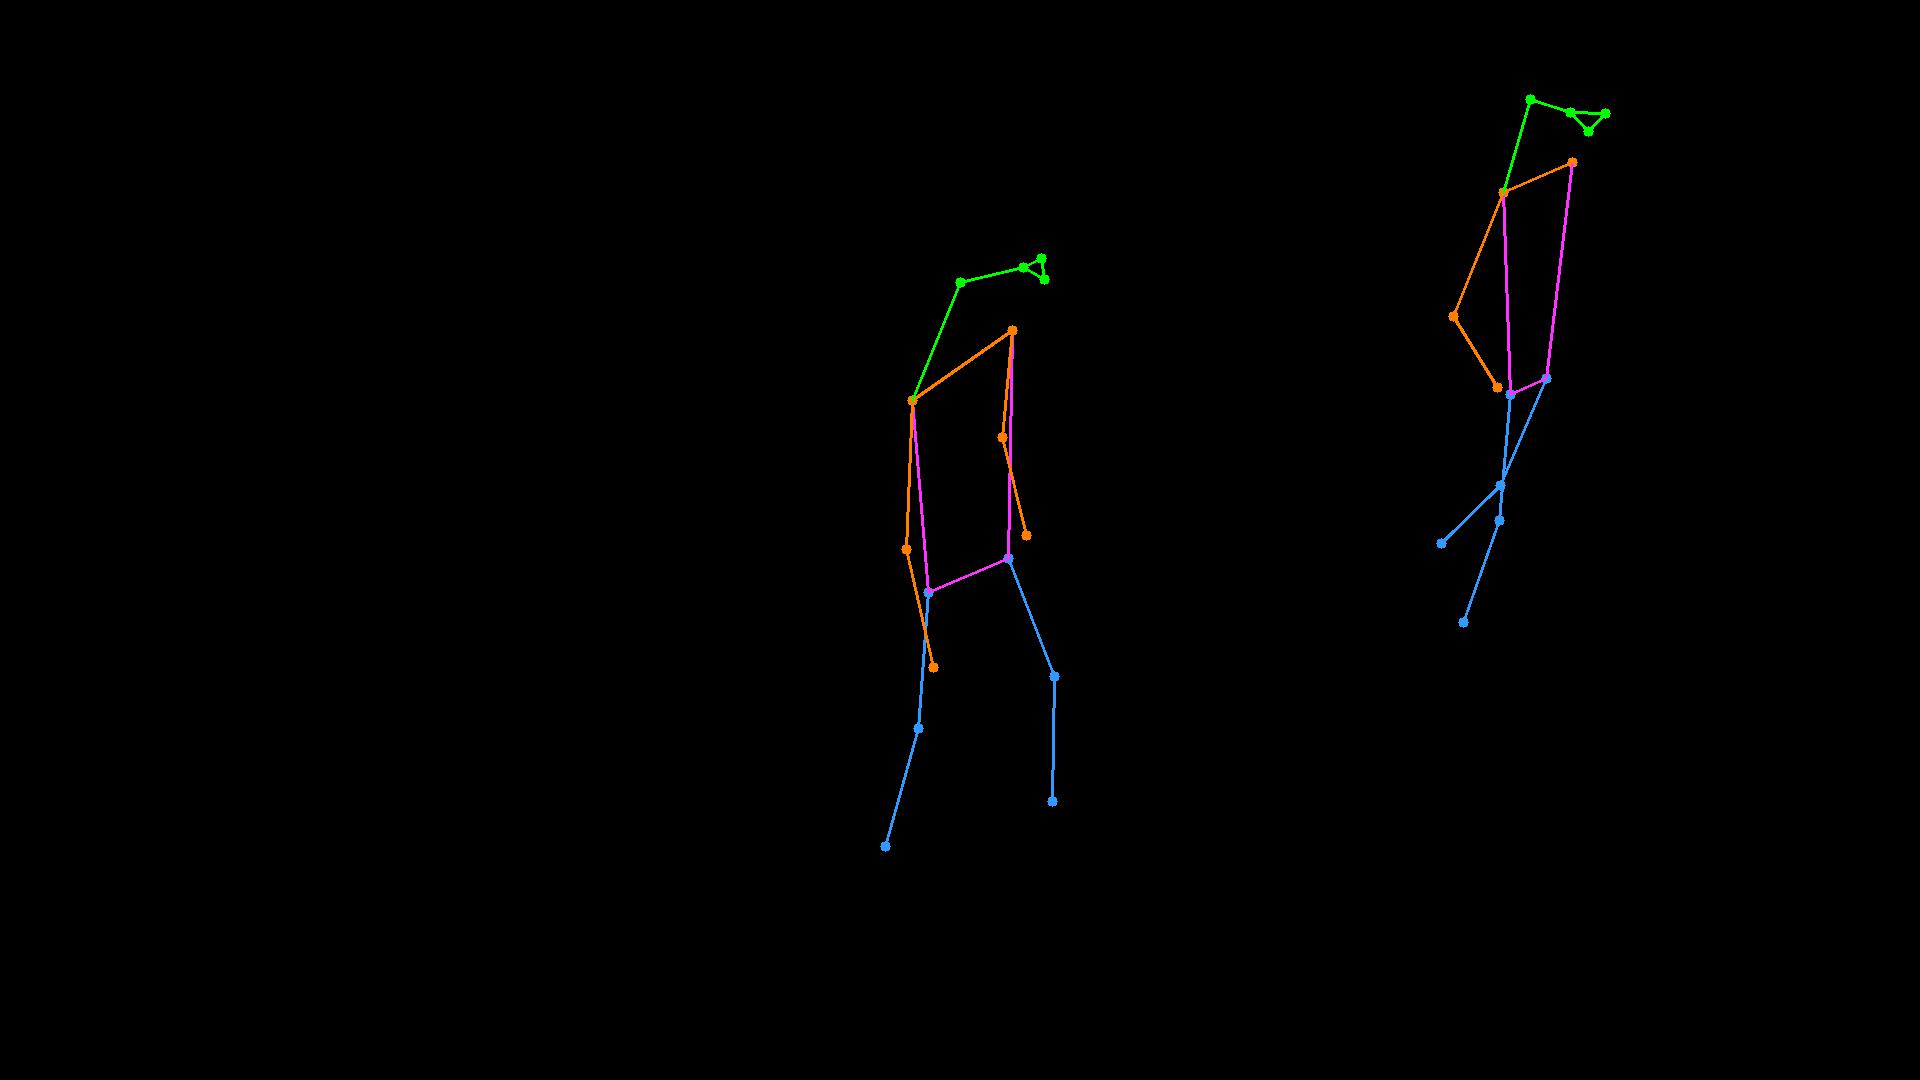normal: (790, 215, 1199, 916), (1320, 63, 1667, 658)
